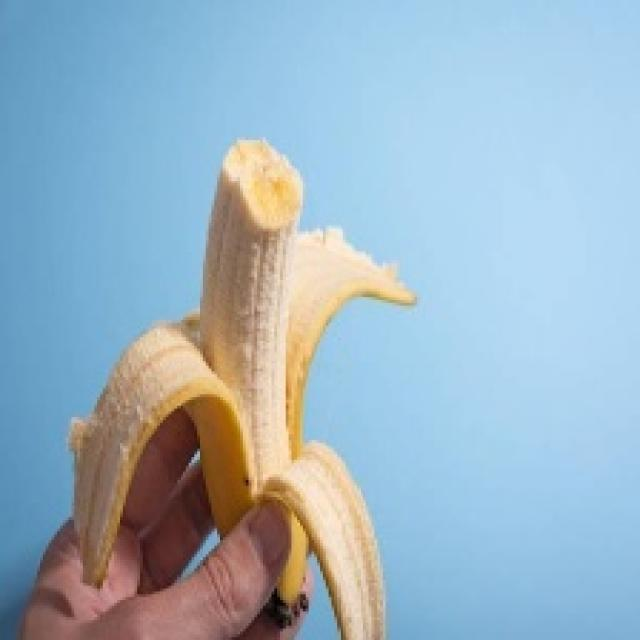Banana: (66, 134, 417, 637)
